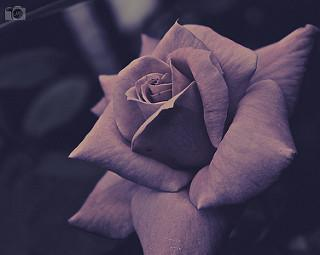Rose: (79, 21, 314, 255)
